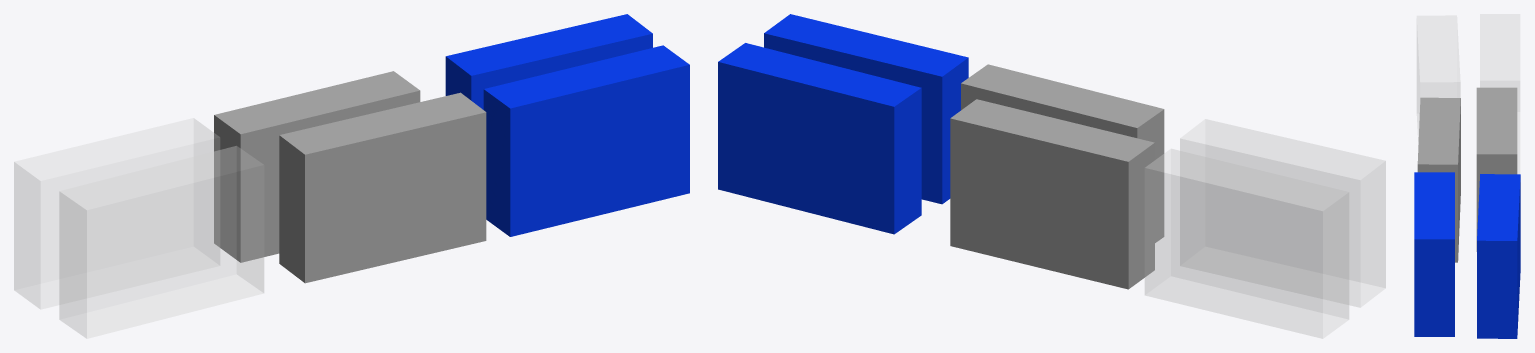
The model's file is FrozenBox_vhvpd4_Pack01.fbx.
3 renders of one model, left to right at view 1: azimuth 30°, elevation 25°; view 2: azimuth 150°, elevation 25°; view 3: azimuth 270°, elevation 25°, orthographic. The views are drawn at different scales.
Parts seen in each view (by area): view 1: FrozenBox_vhvpd4_Pack01; view 2: FrozenBox_vhvpd4_Pack01; view 3: FrozenBox_vhvpd4_Pack01.
Part boxes in pixels (bbox=[...]): FrozenBox_vhvpd4_Pack01: bbox=[14, 14, 689, 338]; FrozenBox_vhvpd4_Pack01: bbox=[718, 14, 1385, 338]; FrozenBox_vhvpd4_Pack01: bbox=[1414, 14, 1520, 338].
Bounding box in the file's own units: 97.54 × 19.61 × 19.26.
